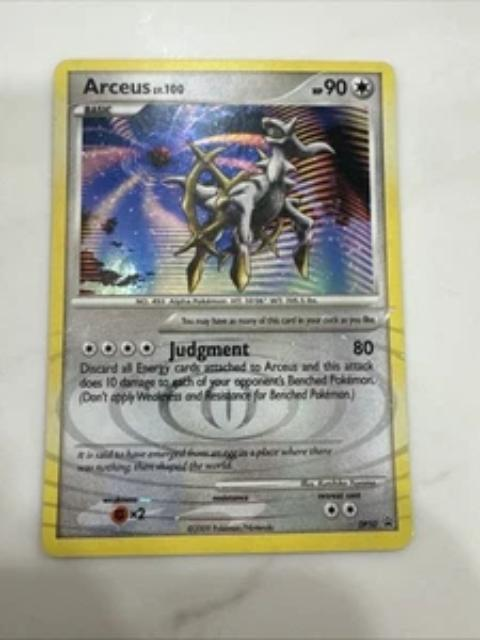Card: (39, 58, 417, 560)
Name: (80, 72, 153, 99)
